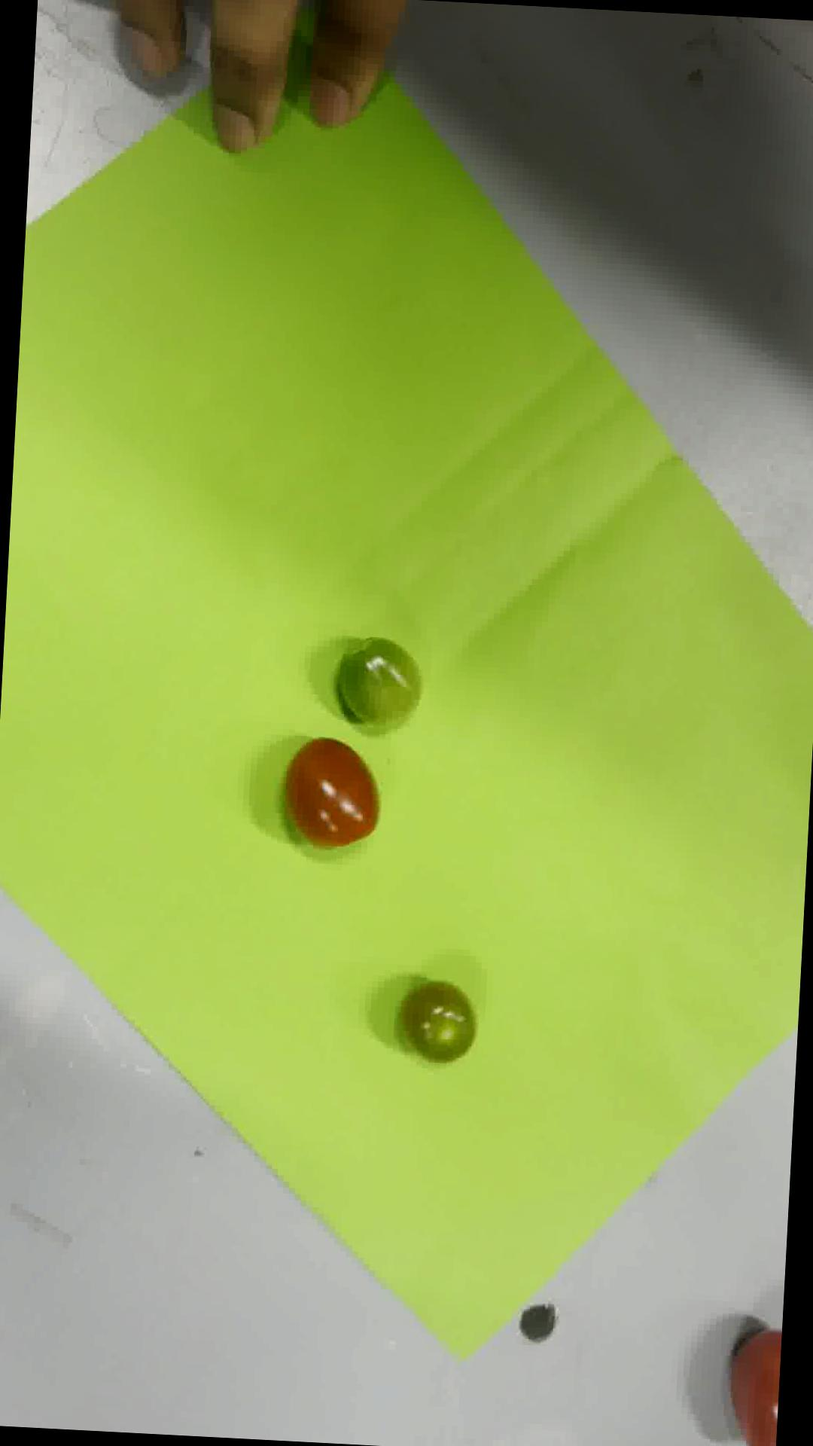green_cherry_tomato: (337, 637, 421, 724)
red_cherry_tomato: (284, 737, 379, 848)
yellow_cherry_tomato: (399, 979, 476, 1062)
